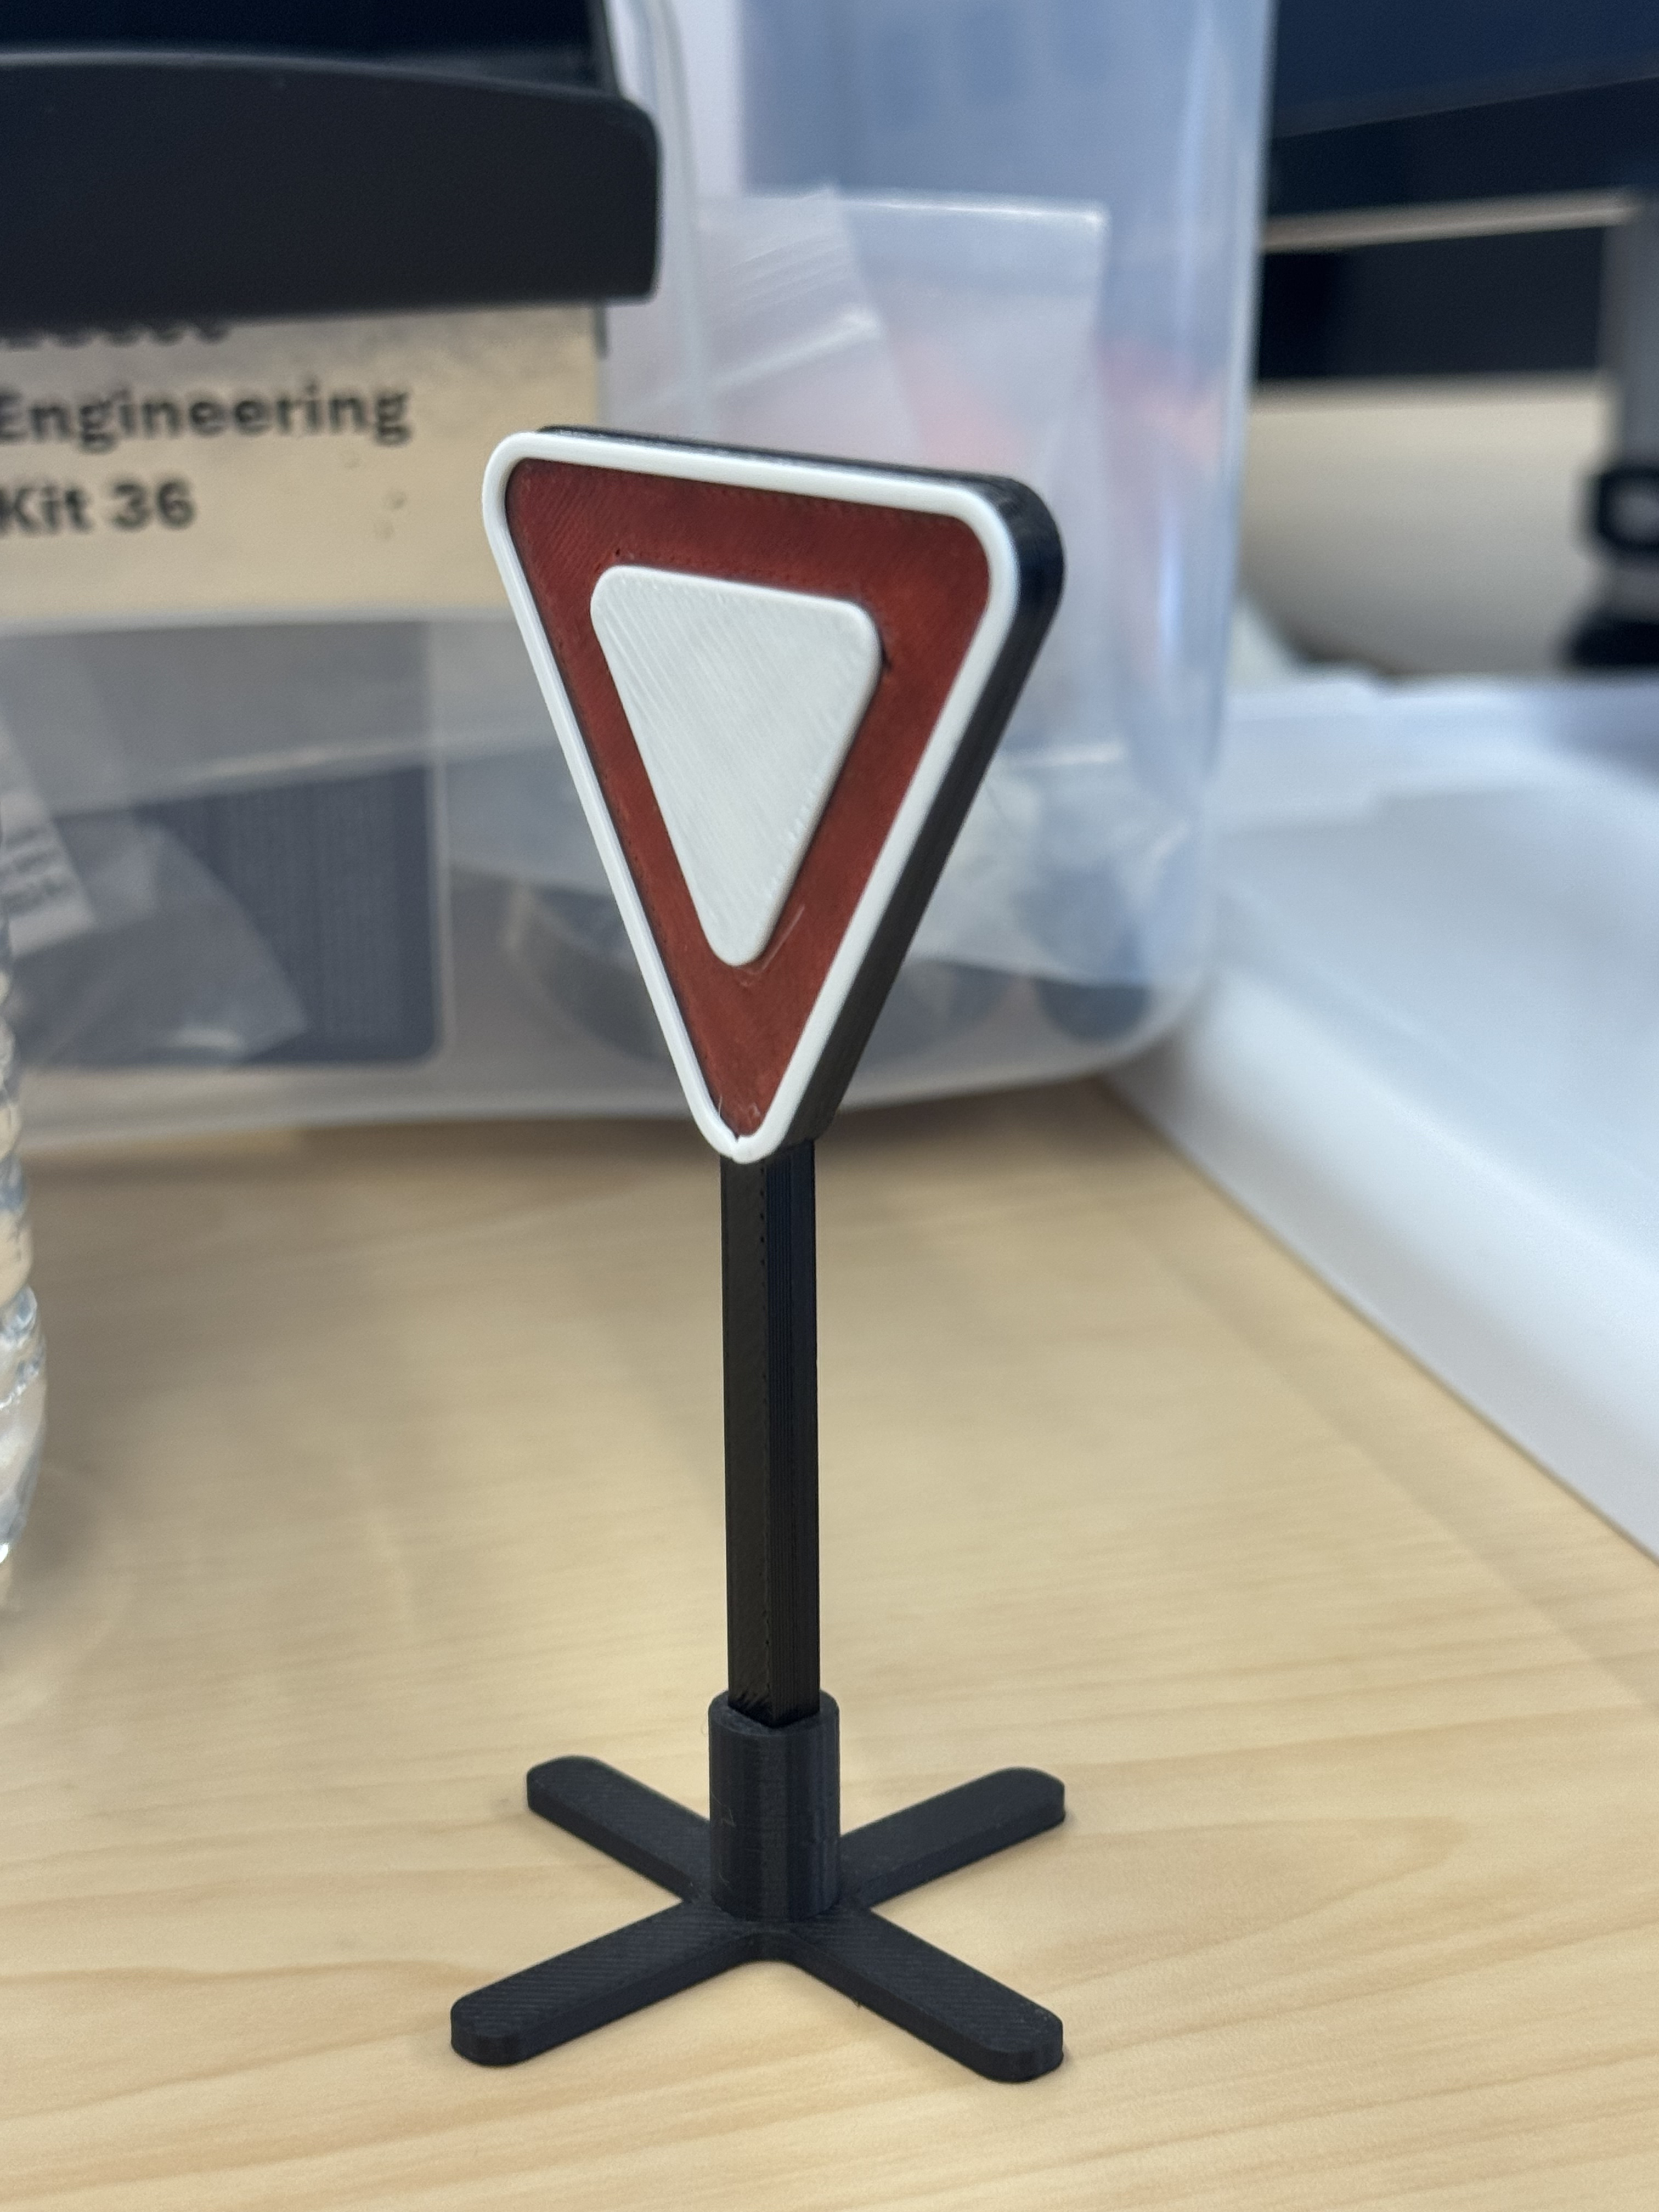sign_yield: (444, 411, 1080, 2102)
